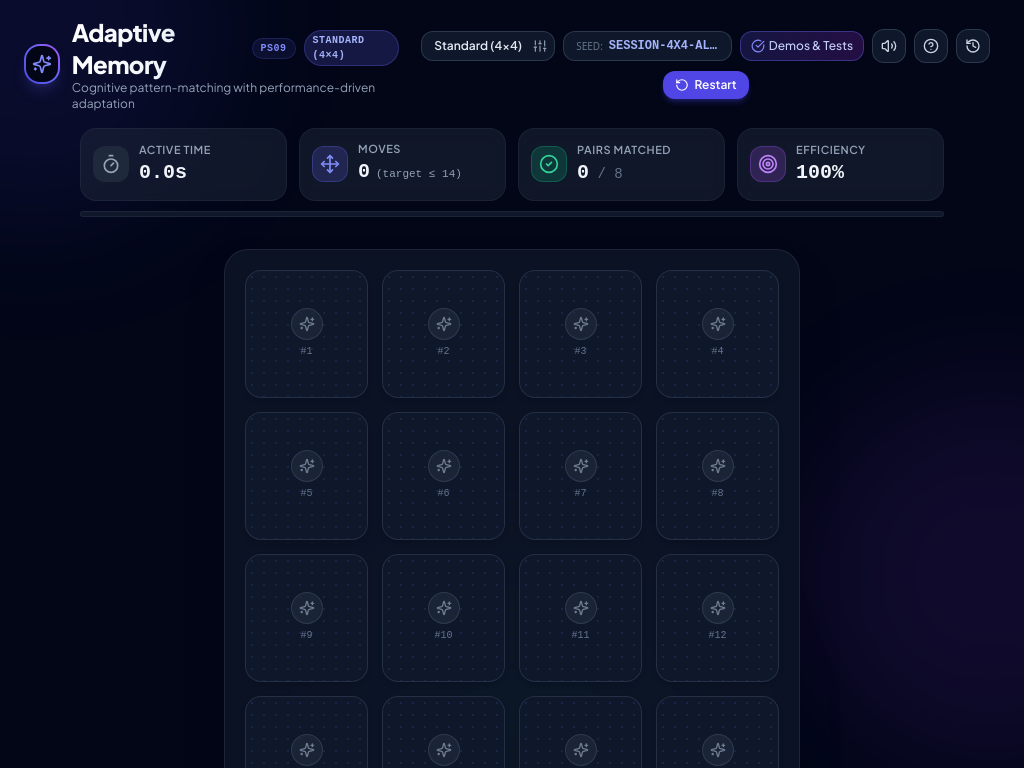
Test case: App Component Integration & UI Controls › opens seed control modal and allows custom seed input
Click the button with test id "seed-control-button". click: point(648, 46)
box: [563, 31, 732, 61]
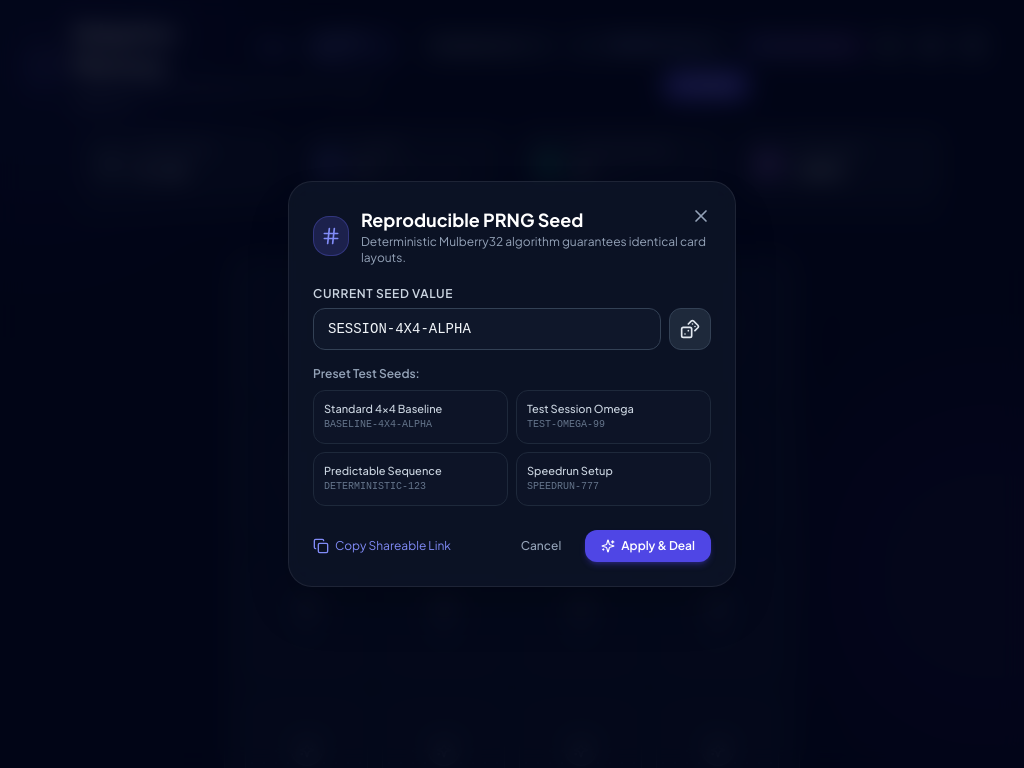
Now the heading "Reproducible PRNG Seed" is shown, box [361, 208, 584, 231]
Now the field with test id "seed-input-field" is shown
Replace the text in the field with test id "seed-input-field" with "CUSTOM-SEED-42". click: point(487, 329)
box: [313, 308, 661, 350]
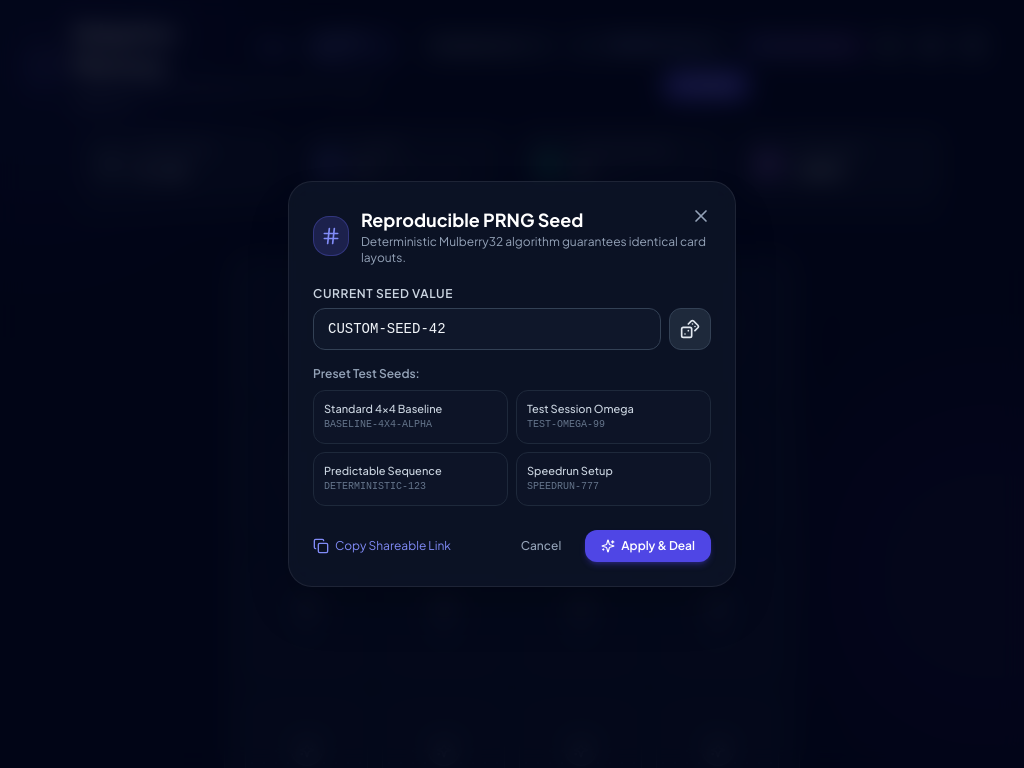
Click the button with test id "apply-seed-button". click: point(648, 546)
box: [585, 530, 711, 562]
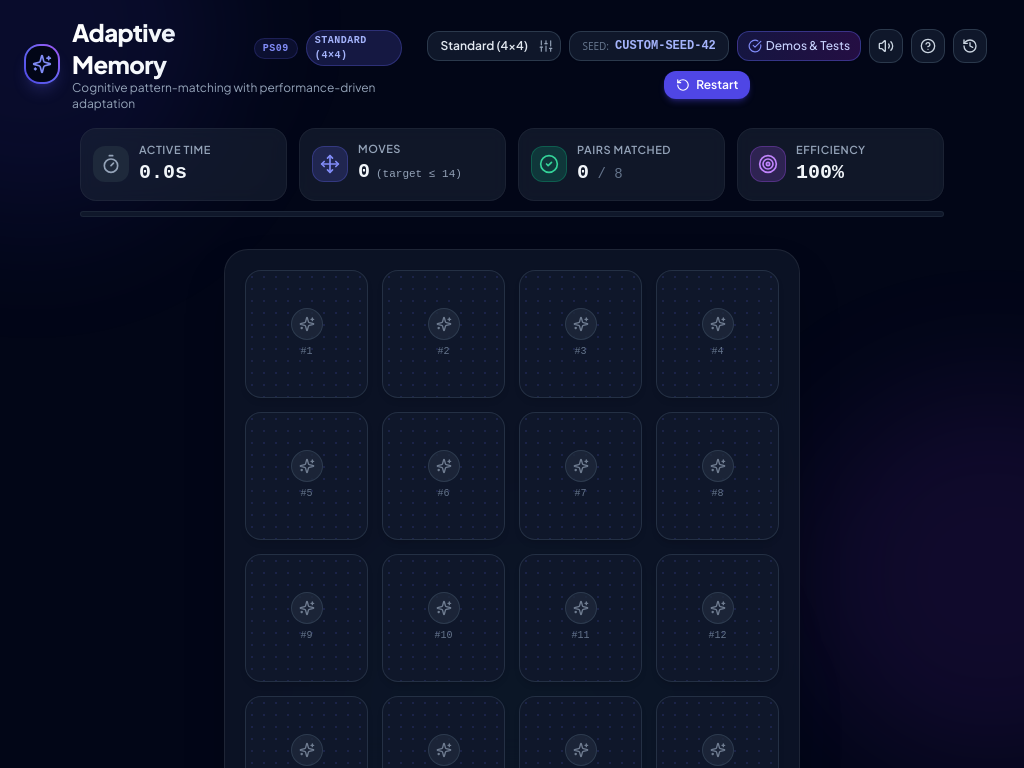
Now the button with test id "seed-control-button" shows "CUSTOM-SEED-42", box [569, 31, 729, 61]
